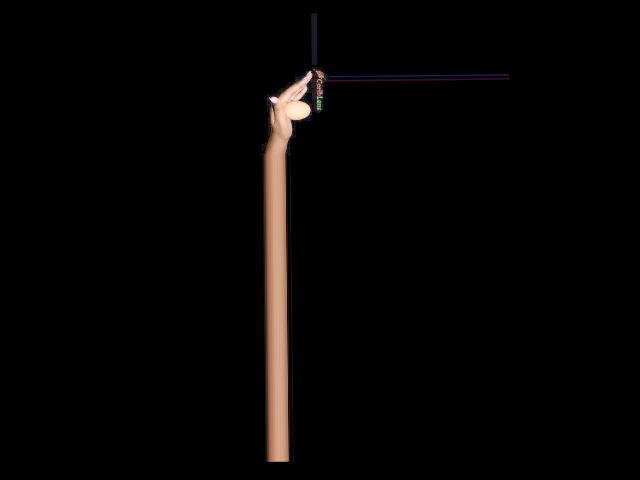egg: (284, 100, 310, 120)
